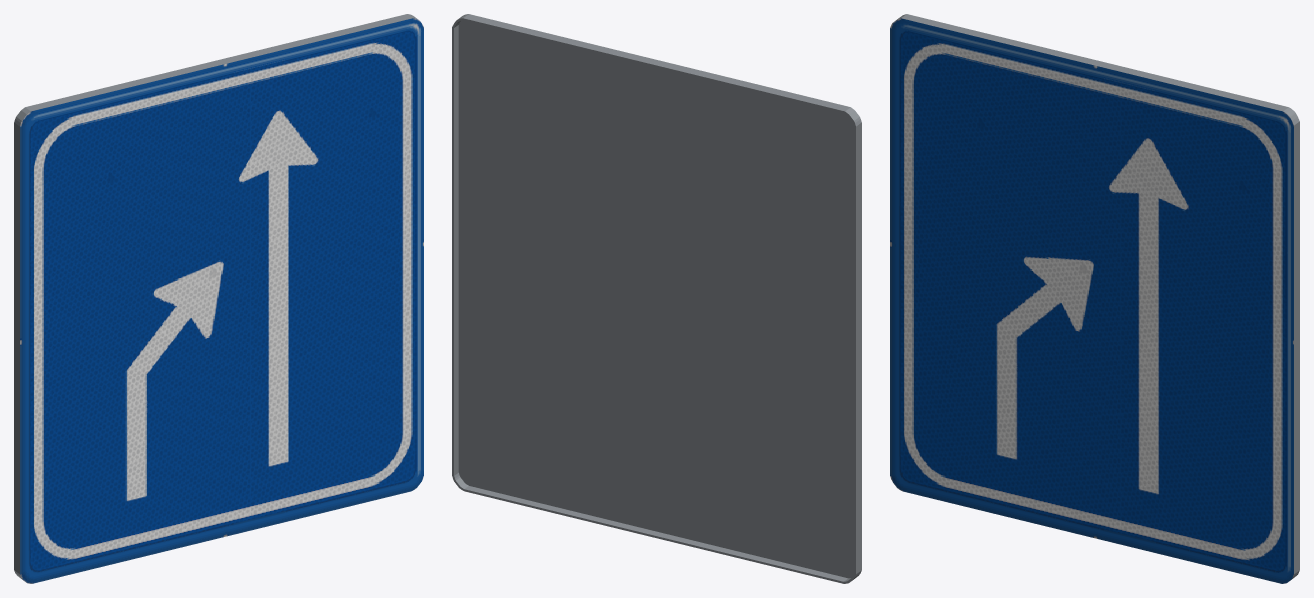
3 views of the same model, side by side, from view 1: azimuth 30°, elevation 25°; view 2: azimuth 150°, elevation 25°; view 3: azimuth 330°, elevation 25° (orthographic).
Parts seen in each view (by area): view 1: cat_5b57f55deda7f3e6; view 2: cat_5b57f55deda7f3e6; view 3: cat_5b57f55deda7f3e6.
Part boxes in pixels (x1,y1,x2,y2): cat_5b57f55deda7f3e6: (14, 14, 423, 583); cat_5b57f55deda7f3e6: (452, 14, 861, 583); cat_5b57f55deda7f3e6: (890, 14, 1299, 583).
Bounding box in the file's own units: 0.6 × 0.015 × 0.6711.
Materials: 2 (1 with a texture image).
